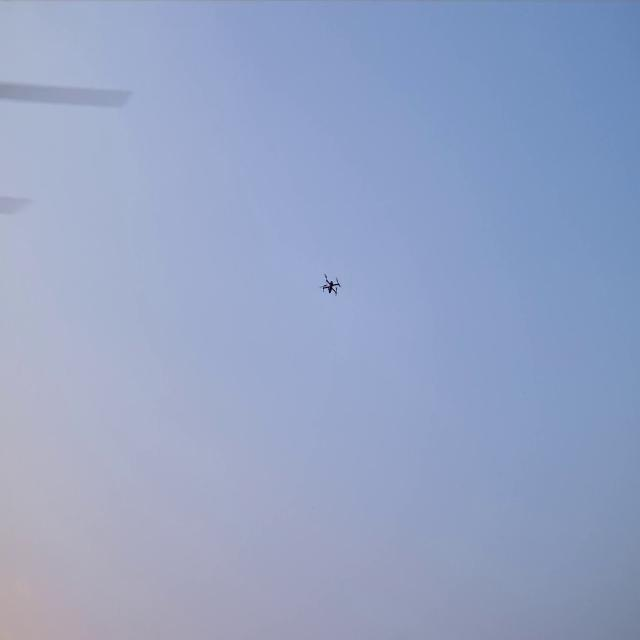UAV: (318, 271, 342, 298)
